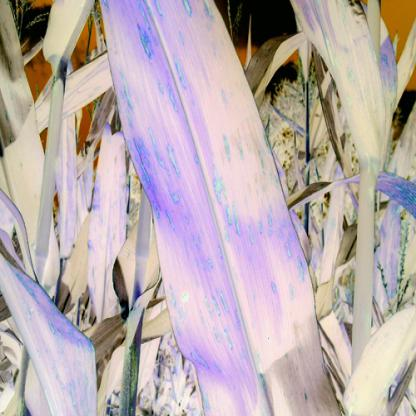corn leaf blight: (97, 3, 311, 415), (1, 237, 102, 415)
